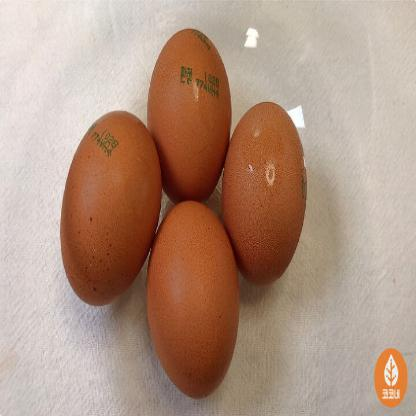egg: (141, 176, 250, 402), (51, 98, 162, 313), (212, 78, 312, 294), (143, 20, 232, 204)
